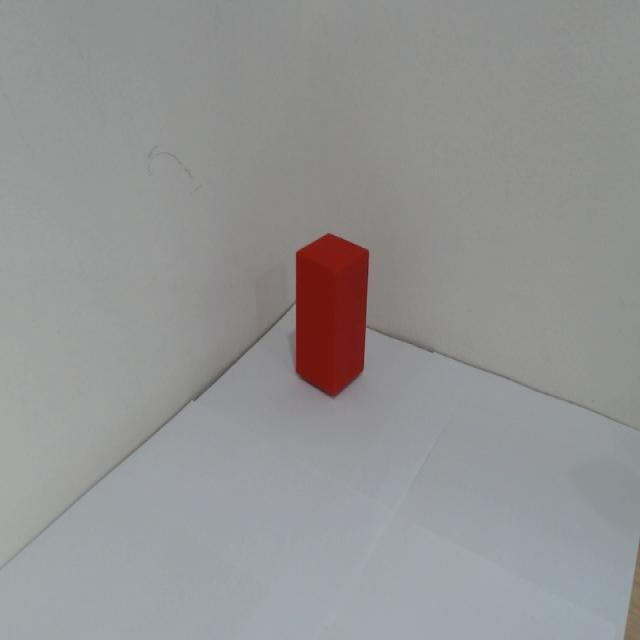cube: (292, 228, 371, 400)
